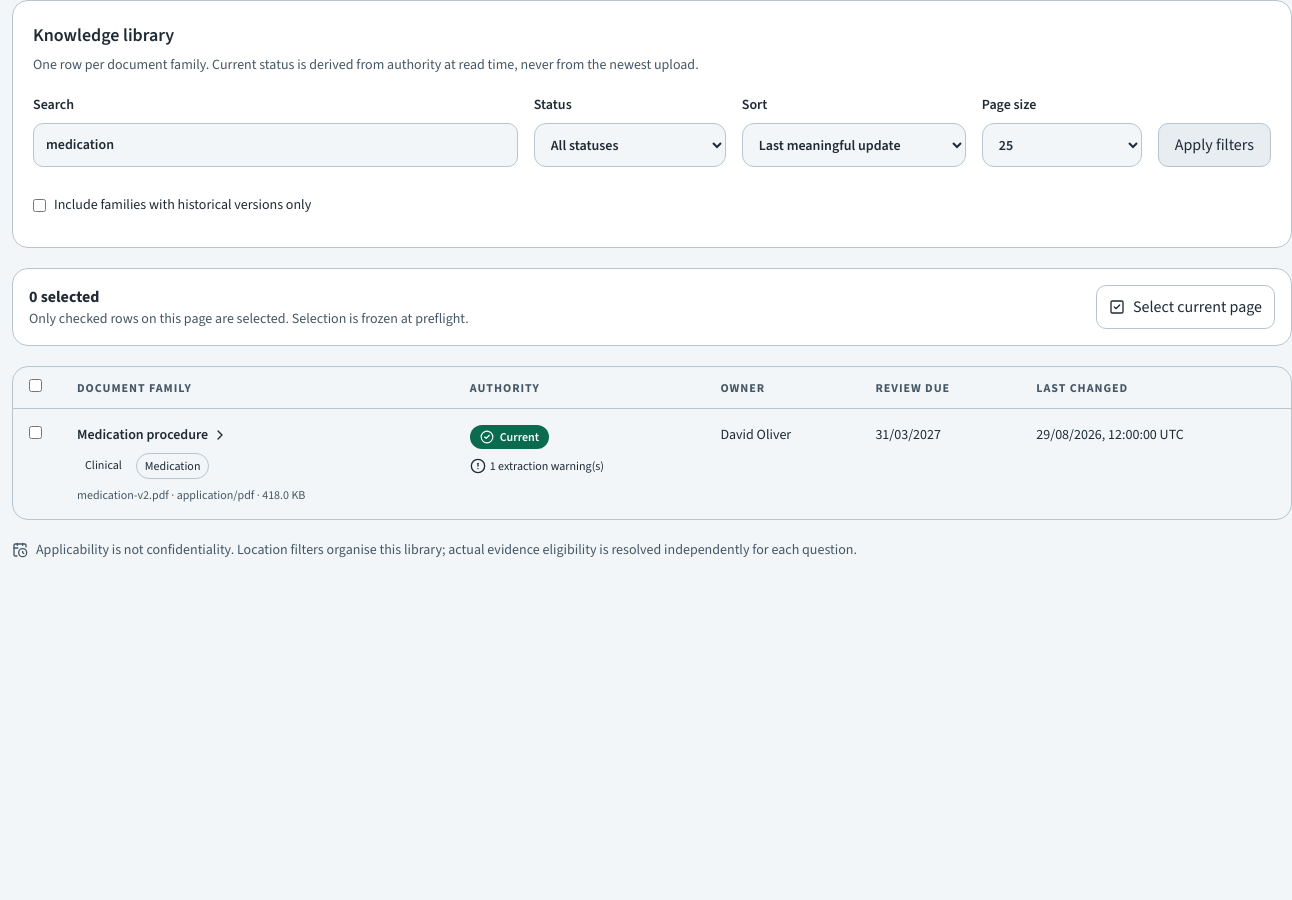
DocumentLibraryTable › distinguishes current-page selection from a server-frozen all-filtered preflight
Step 1. Click the button "Select current page" → click(1186, 307), box [1096,285,1275,329]
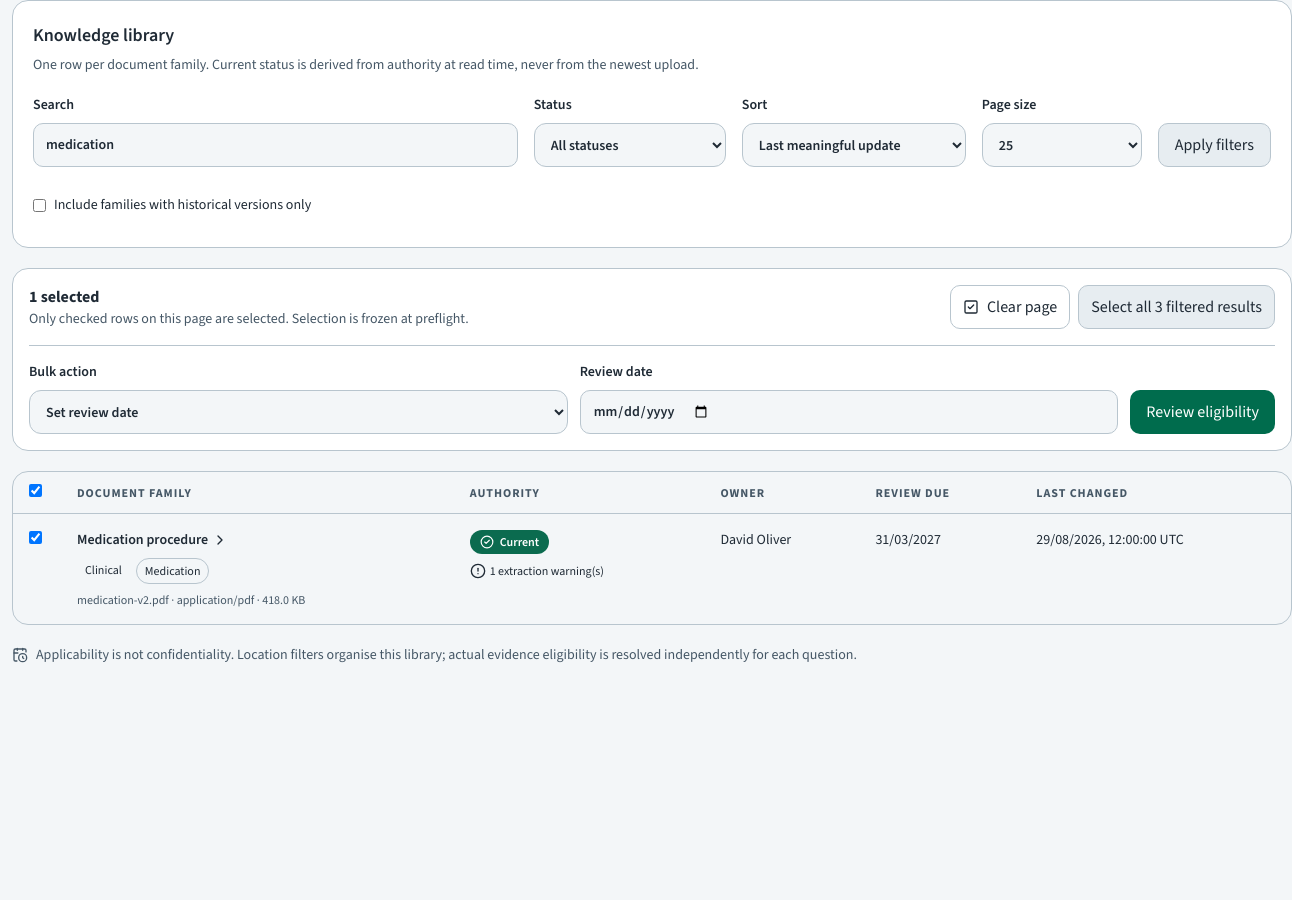
Step 2. Click the button "Select all 3 filtered results" → click(1177, 307), box [1078,285,1275,329]
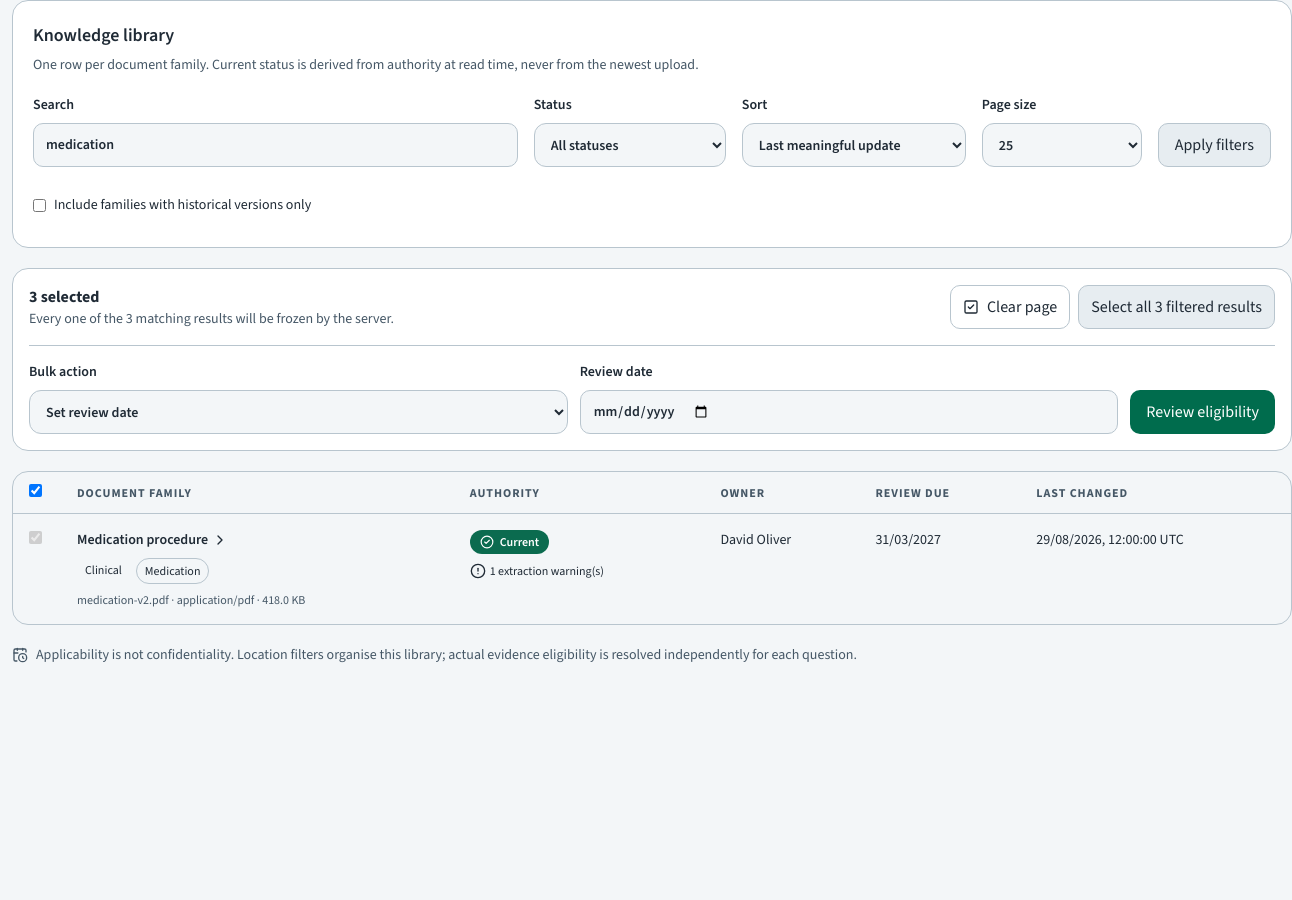
Step 3. Type "2027-06-01" into the date field labelled "Review date" → (849, 412), box [580,390,1118,434]
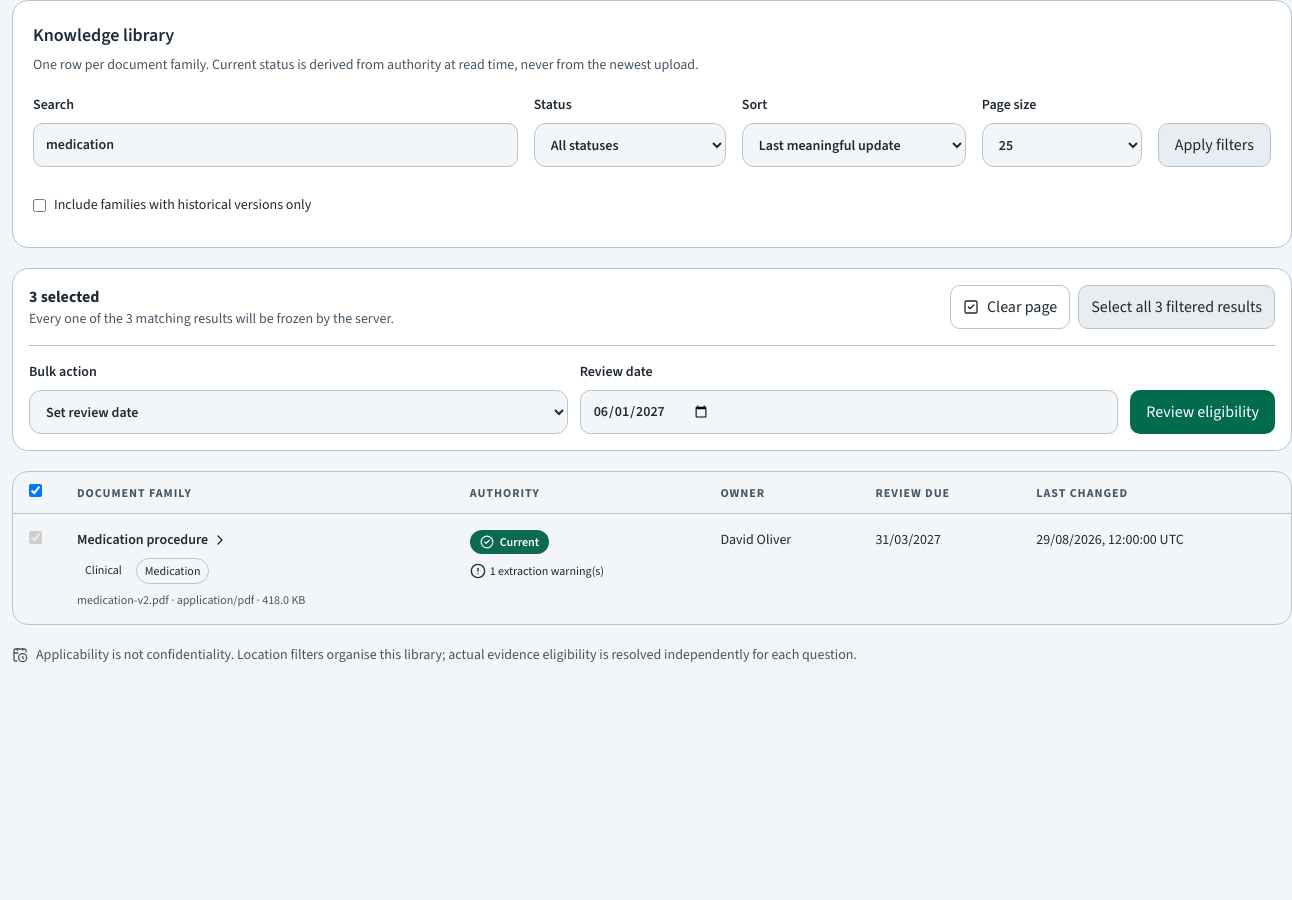
Step 4. Click the button "Review eligibility" → click(1203, 412), box [1130,390,1275,434]
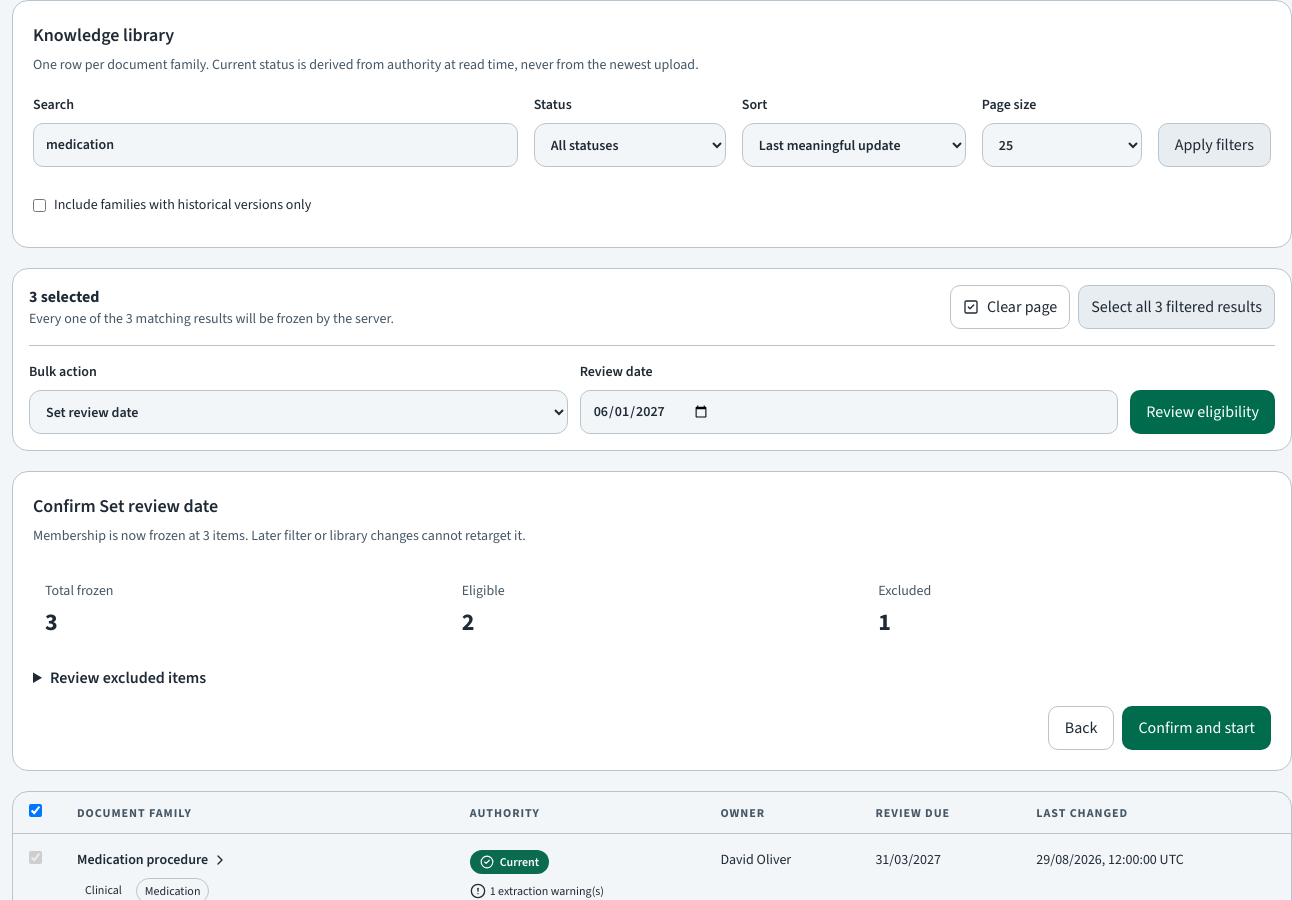
Check: the heading "Confirm Set review date" is shown, box [33,494,218,518]
